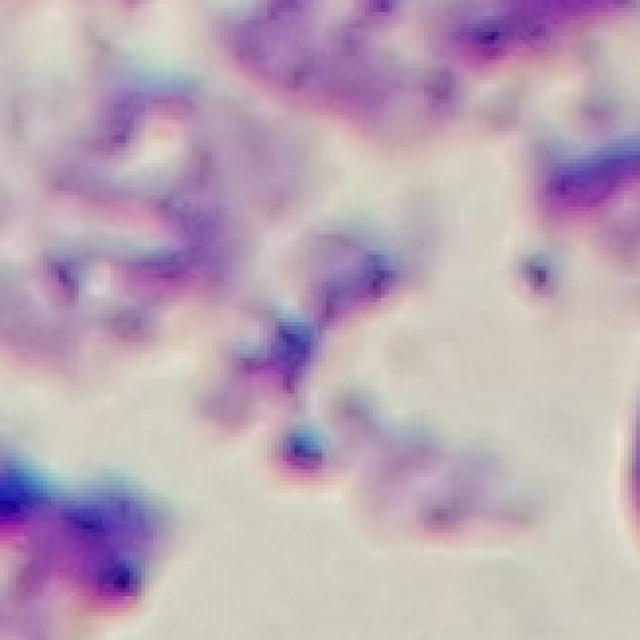non-sperm: (230, 237, 409, 472)
